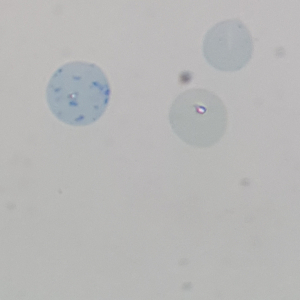aggregate reticulocyte: (43, 59, 113, 129)
erythrocyte: (167, 86, 229, 150)
punctate reticulocyte: (200, 16, 256, 74)
